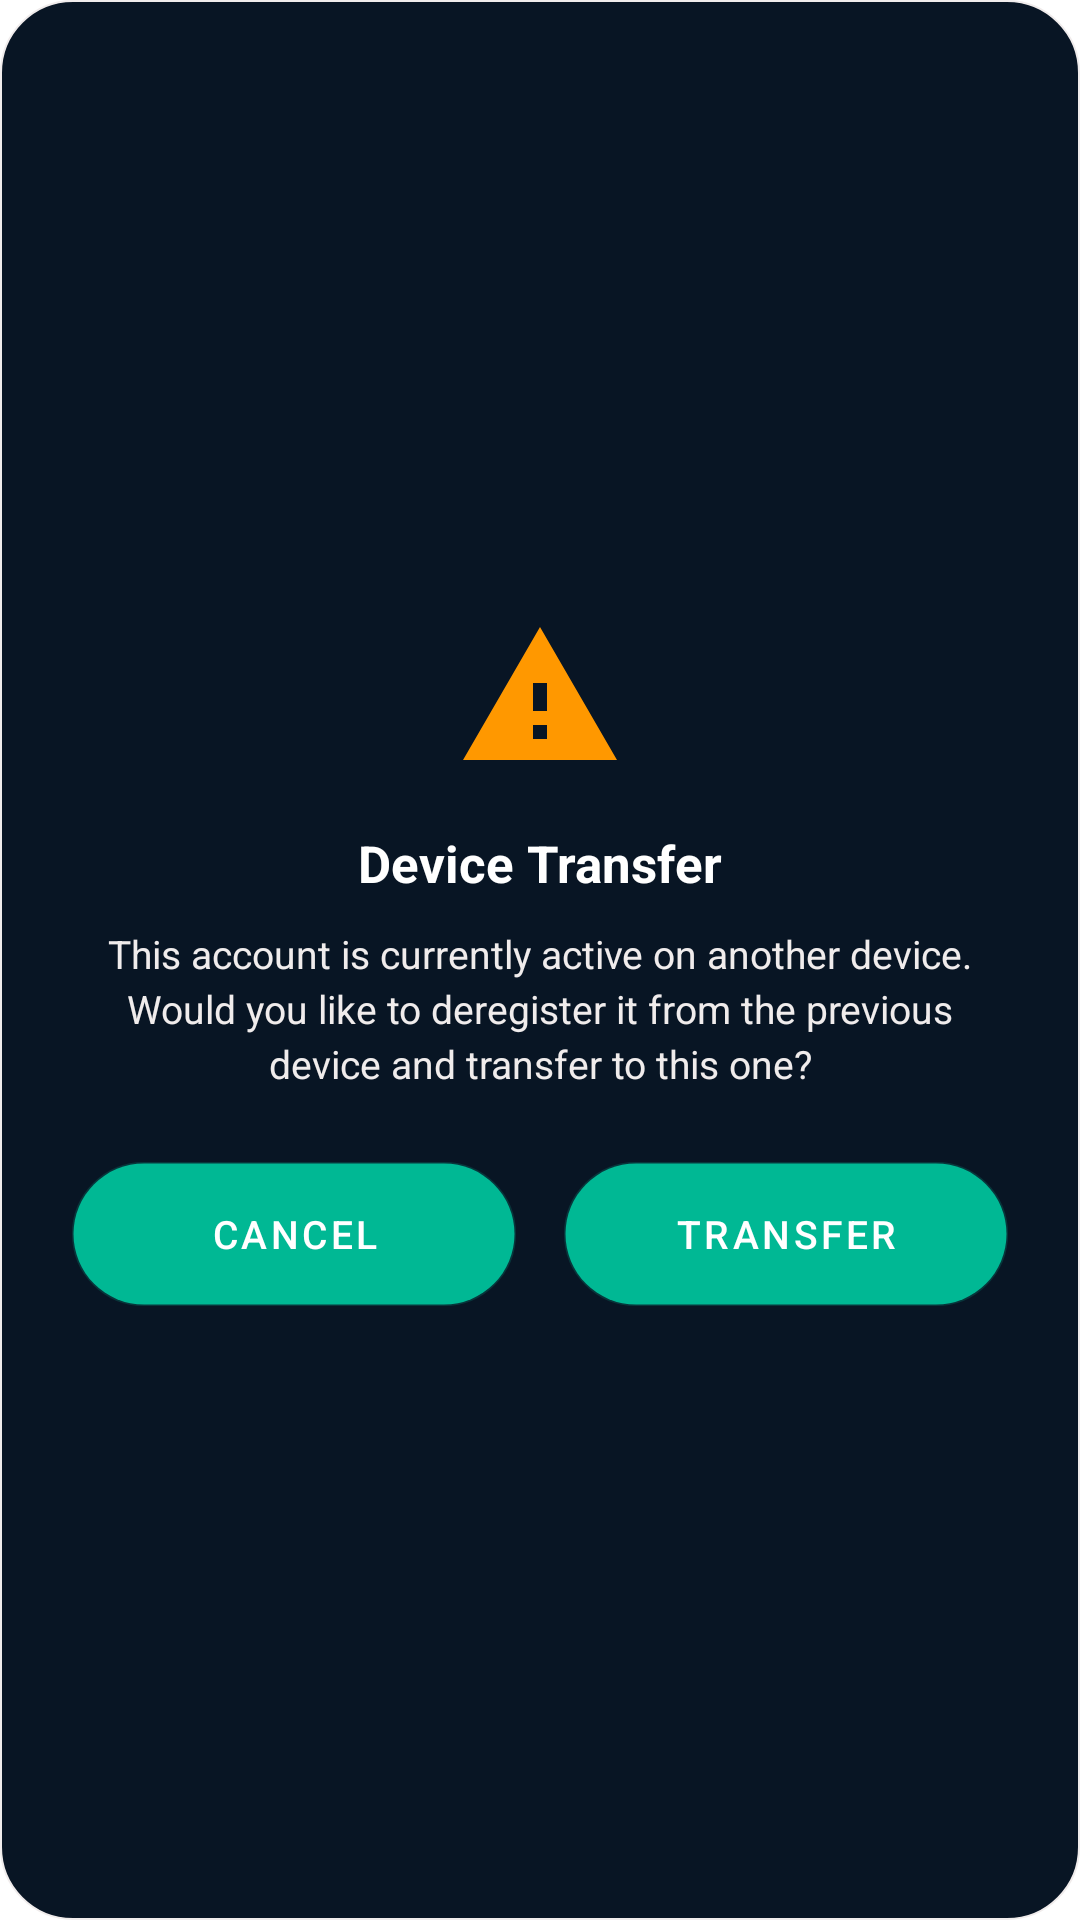

Icons on this 1080px x 1920px Android screen, each with the point to tap as [x,y]:
warning: [540,693]
